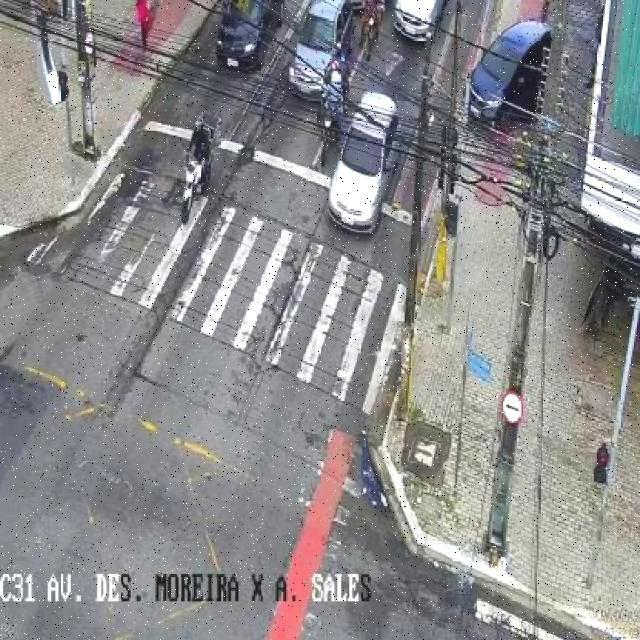Car: (328, 99, 402, 234), (213, 0, 282, 72), (392, 0, 447, 43)
Cycle: (180, 154, 207, 224), (319, 109, 341, 160), (359, 15, 376, 65)
Van: (465, 20, 556, 125), (286, 0, 352, 100)
